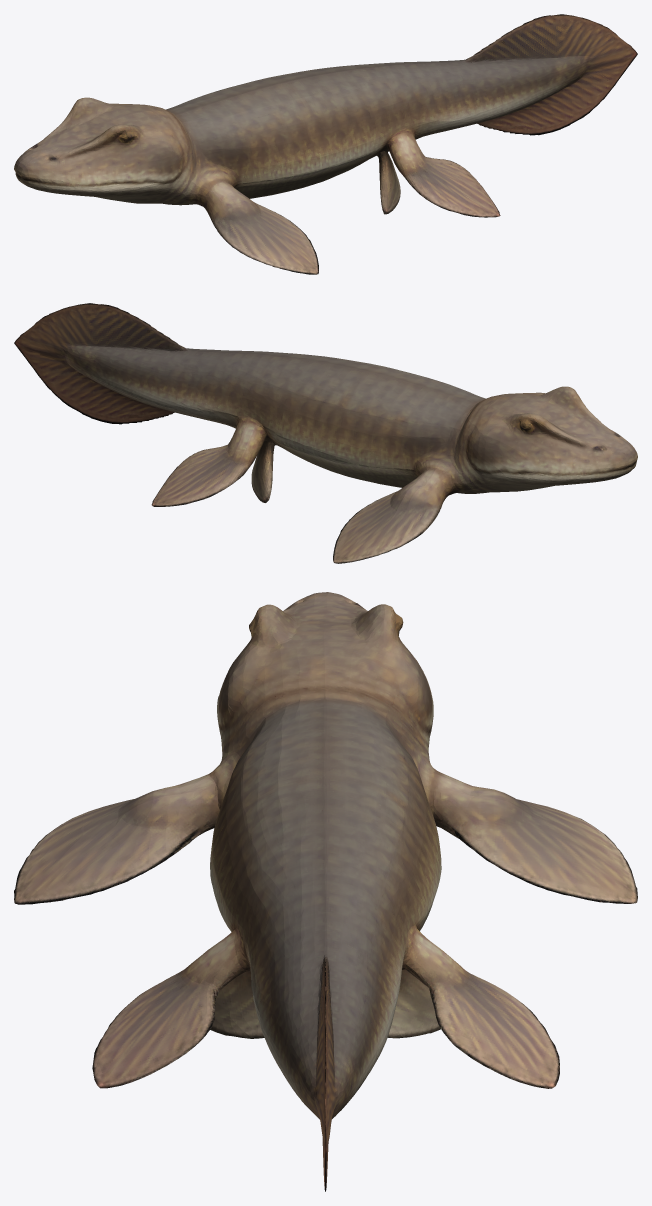
3 views of the same model, one above another, from view 1: azimuth 30°, elevation 25°; view 2: azimuth 150°, elevation 25°; view 3: azimuth 270°, elevation 25° (orthographic). The views are drawn at different scales.
Visible parts, largest first — view 1: world; view 2: world; view 3: world.
Part boxes in pixels (x1,y1,x2,y2): world: (14,14,637,274); world: (14,303,637,563); world: (14,592,637,1191).
Size of the model in its own units: 0.9962 by 0.2057 by 0.531.
1 material, 1 textured.
